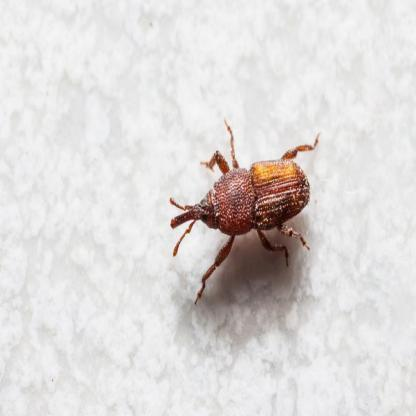rice-bug: (171, 132, 317, 268)
